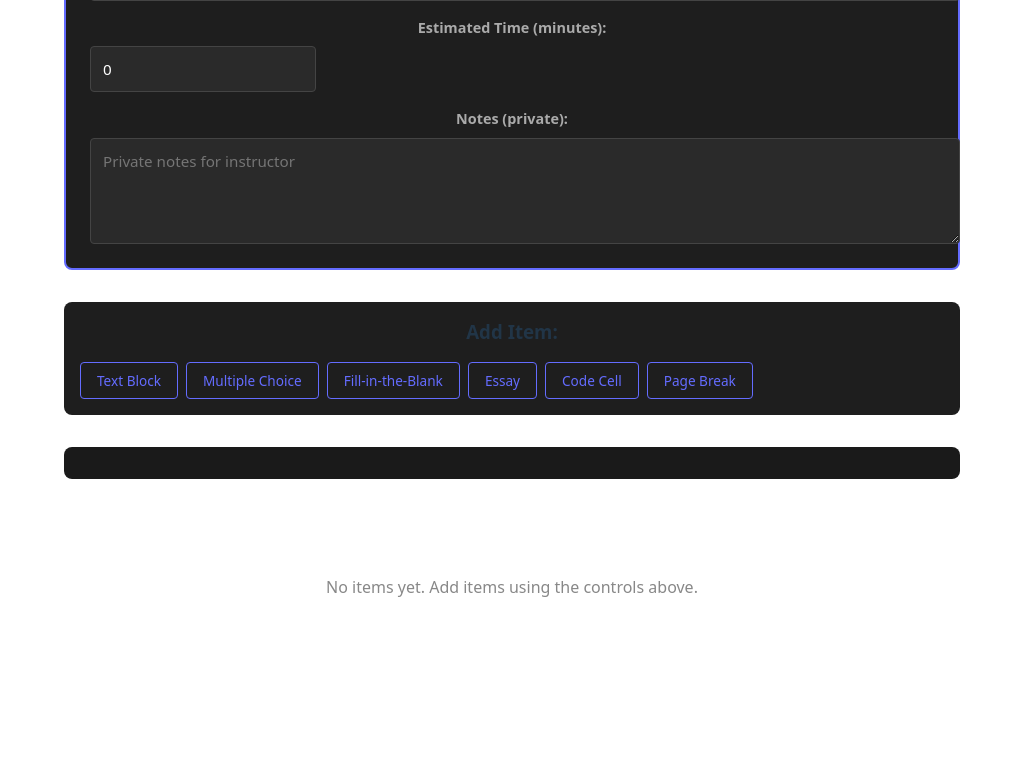
it: AssignmentEditor › adds a multiple choice item when MCQ button is clicked
The width and height of the screenshot is (1024, 764).
(page scrolled)
Click the button with test id "add-multiple-choice".
click(252, 381)  # box [186, 362, 319, 399]
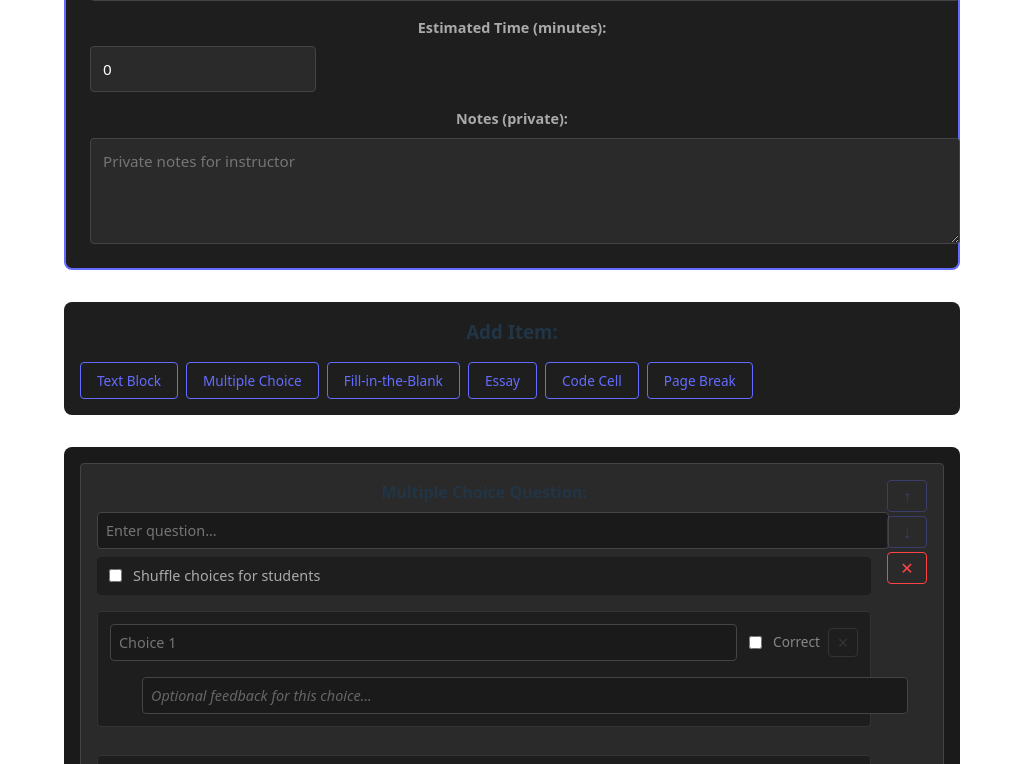
expect the field with test id "mcq-question-1" is shown: met, box [97, 512, 889, 549]
